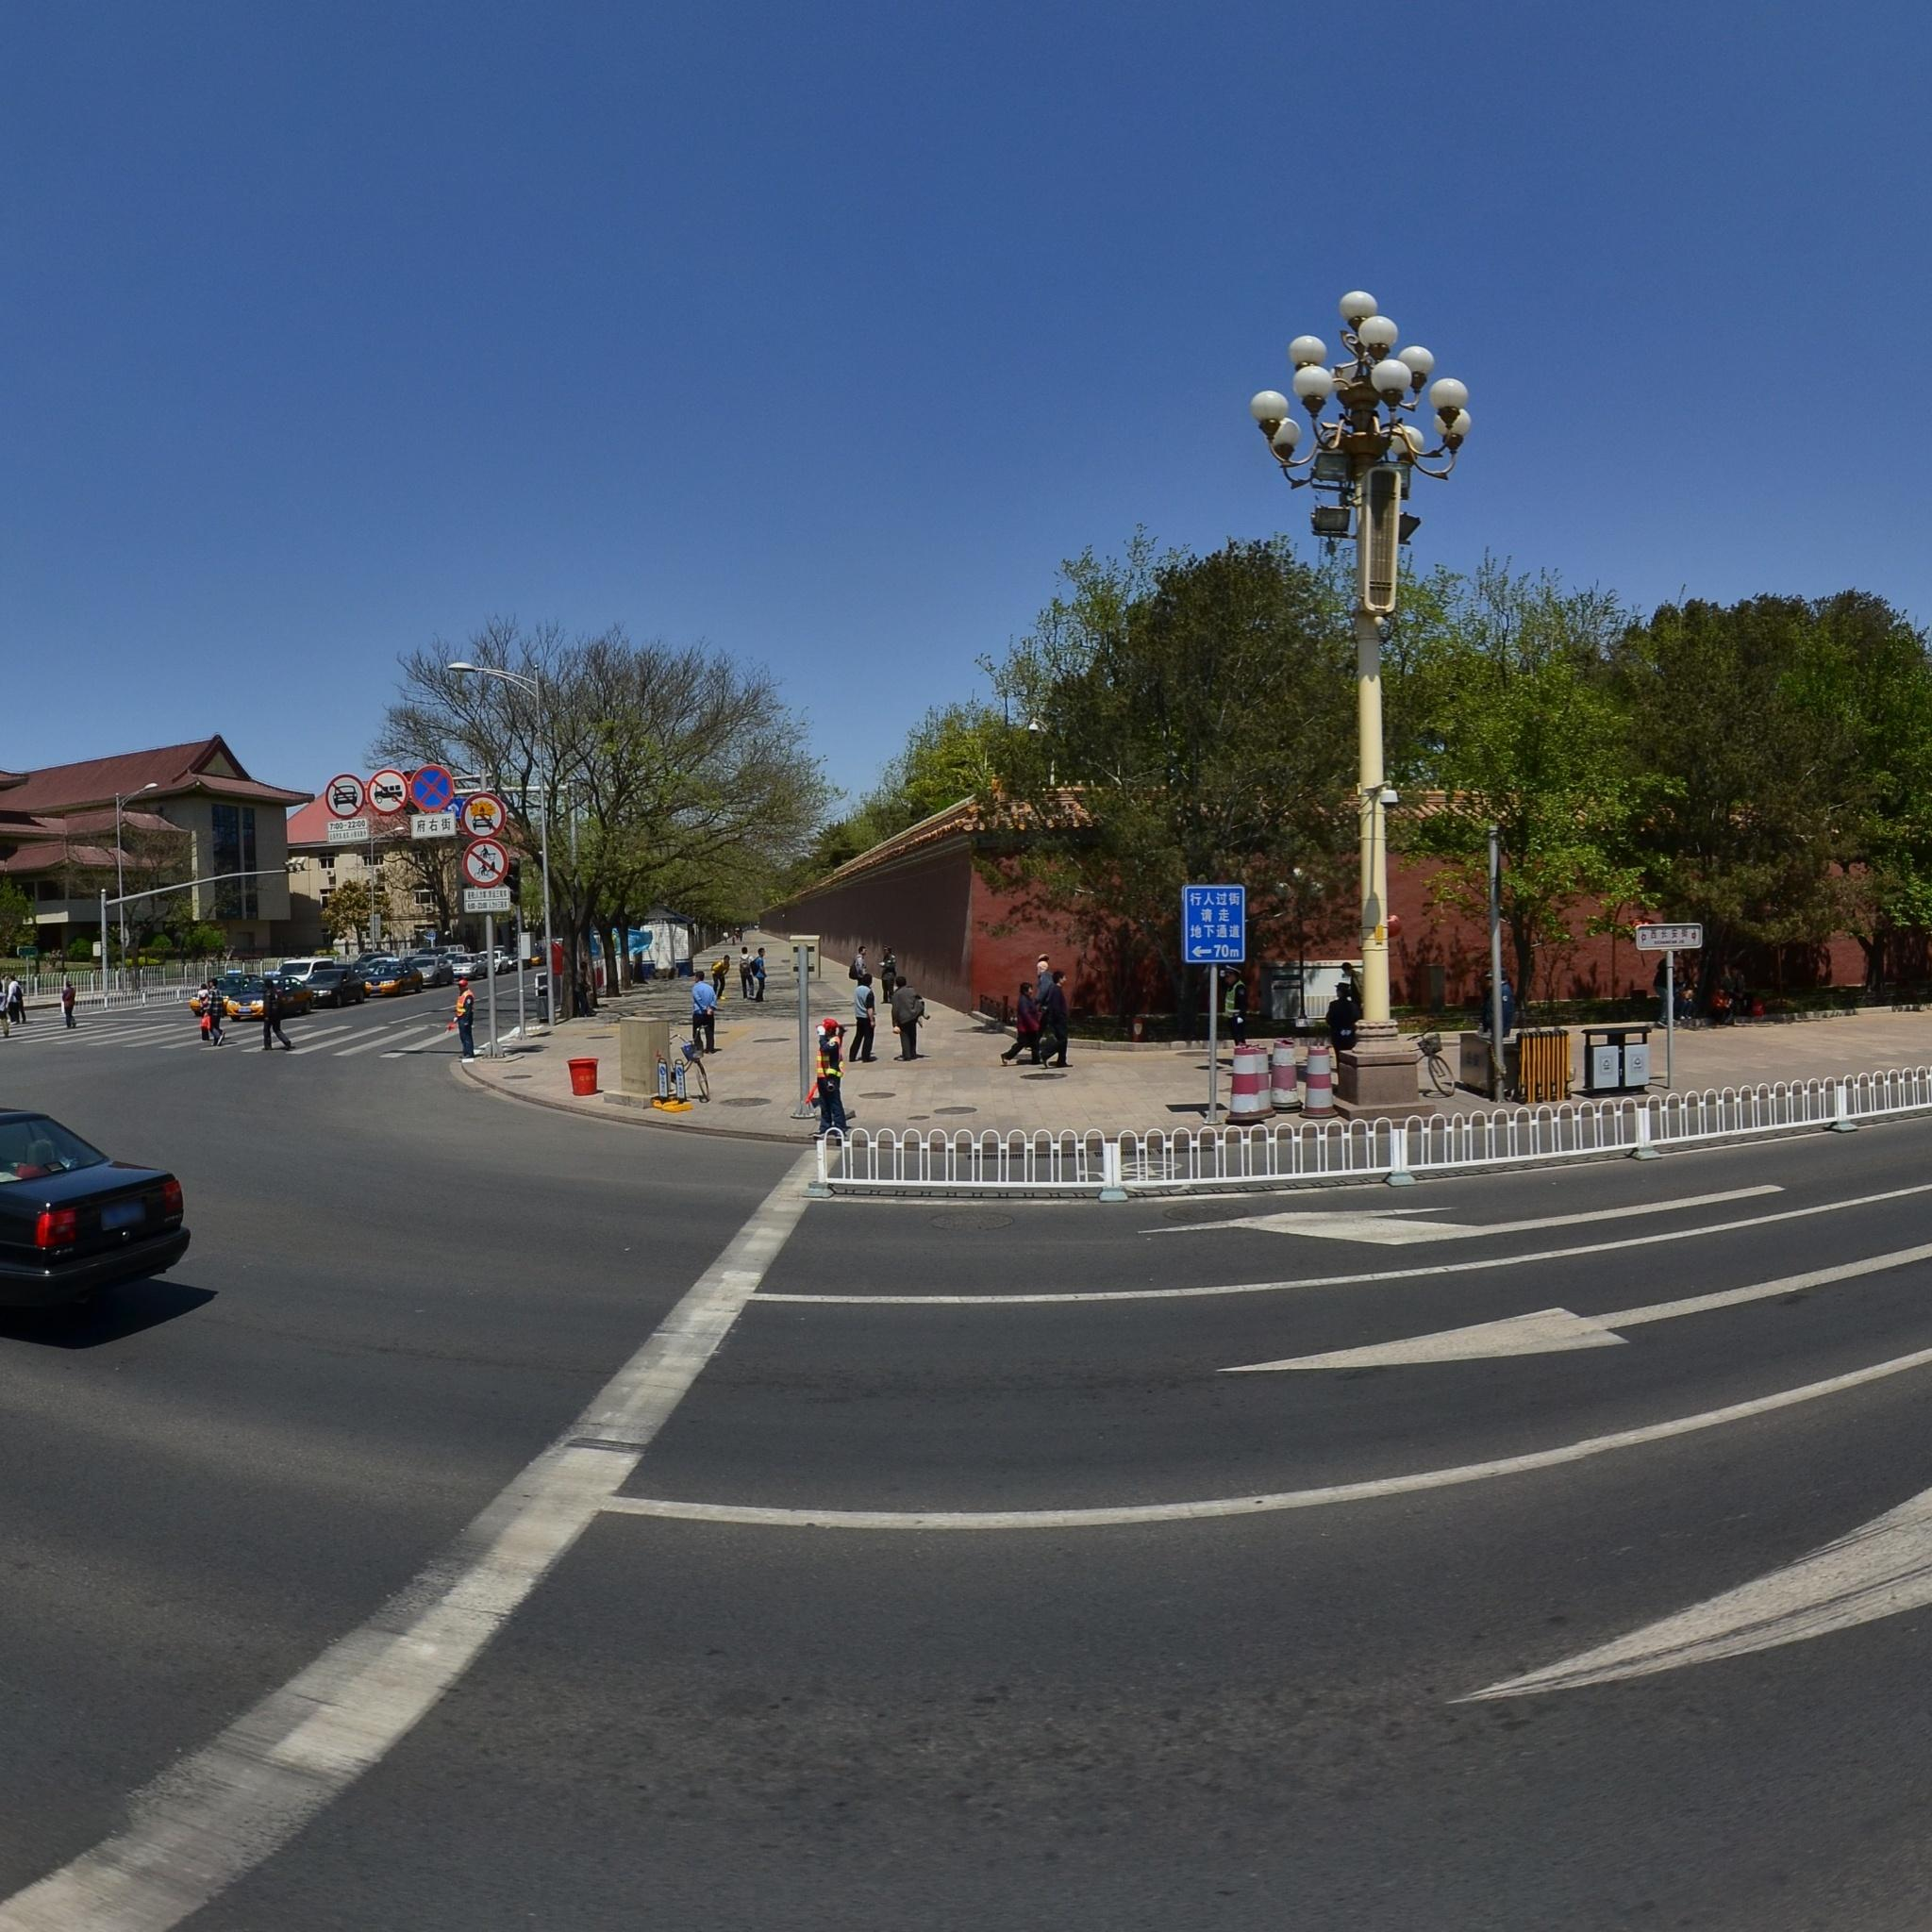p10: (329, 773, 364, 819)
p26: (366, 771, 409, 812)
p27: (464, 791, 502, 837)
pn: (410, 768, 456, 816)
